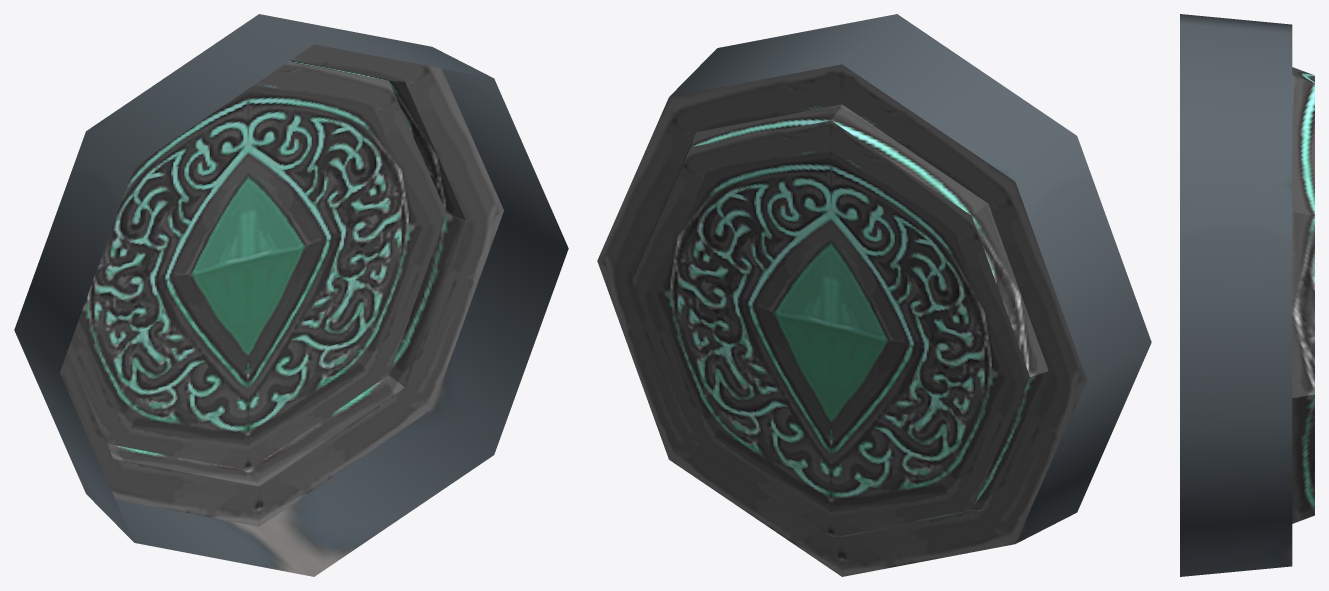
Rendered from FB_boss_lunzi.FBX.
3 renders of one model, left to right at view 1: azimuth 30°, elevation 25°; view 2: azimuth 150°, elevation 25°; view 3: azimuth 270°, elevation 25°, orthographic.
Visible parts, largest first — view 1: Object17; view 2: Object17; view 3: Object17.
Part boxes in pixels (x1,y1,x2,y2): Object17: (14,14,568,576); Object17: (597,14,1151,576); Object17: (1180,14,1314,576).
Bounding box in the file's own units: 2.7 × 2.7 × 0.6078.
